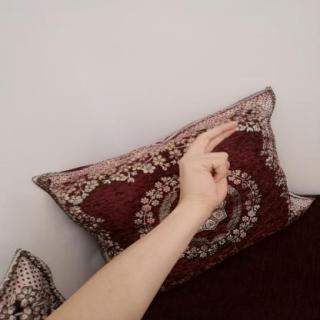ZAY: (171, 114, 247, 214)
